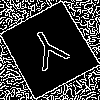Y: (24, 24, 76, 81)
